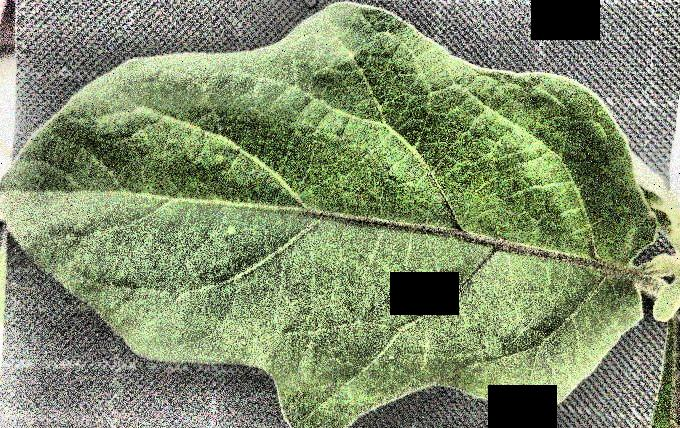HEALTHY: (1, 0, 680, 428)
